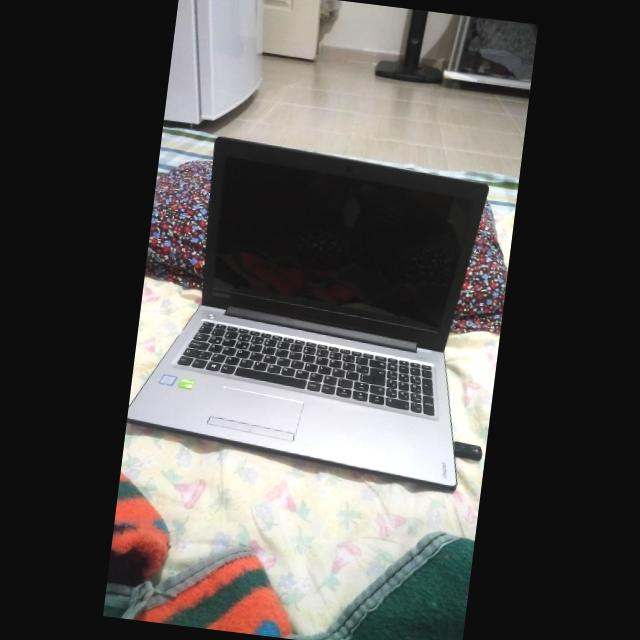laptop: (128, 123, 502, 510)
